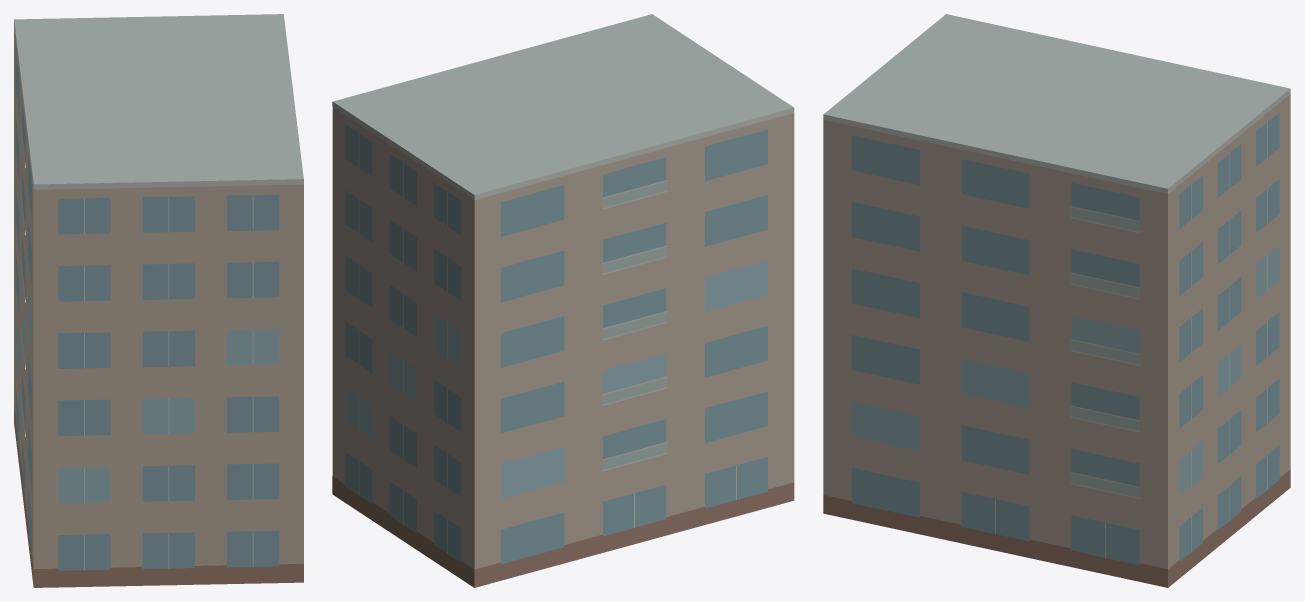
Rendered from survey-upis-32554847.glb.
3 views of the same model, side by side, from view 1: azimuth 30°, elevation 25°; view 2: azimuth 150°, elevation 25°; view 3: azimuth 270°, elevation 25° (orthographic). The views are drawn at different scales.
Visible parts, largest first — view 1: survey-upis-32554847.tmp; view 2: survey-upis-32554847.tmp; view 3: survey-upis-32554847.tmp.
Boxes of the visible parts, x1,y1,x2,y2 form: survey-upis-32554847.tmp: (14,14,303,587); survey-upis-32554847.tmp: (332,14,794,587); survey-upis-32554847.tmp: (823,14,1290,587).
Bounding box in the file's own units: 17.2 × 18.3 × 19.42.
